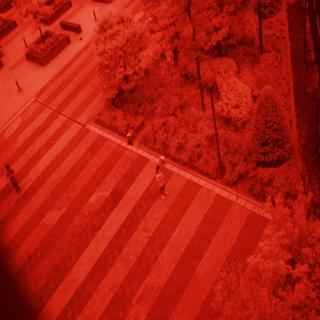person: (152, 159, 175, 206)
